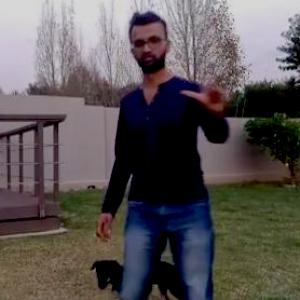land_hand: (180, 53, 238, 114)
